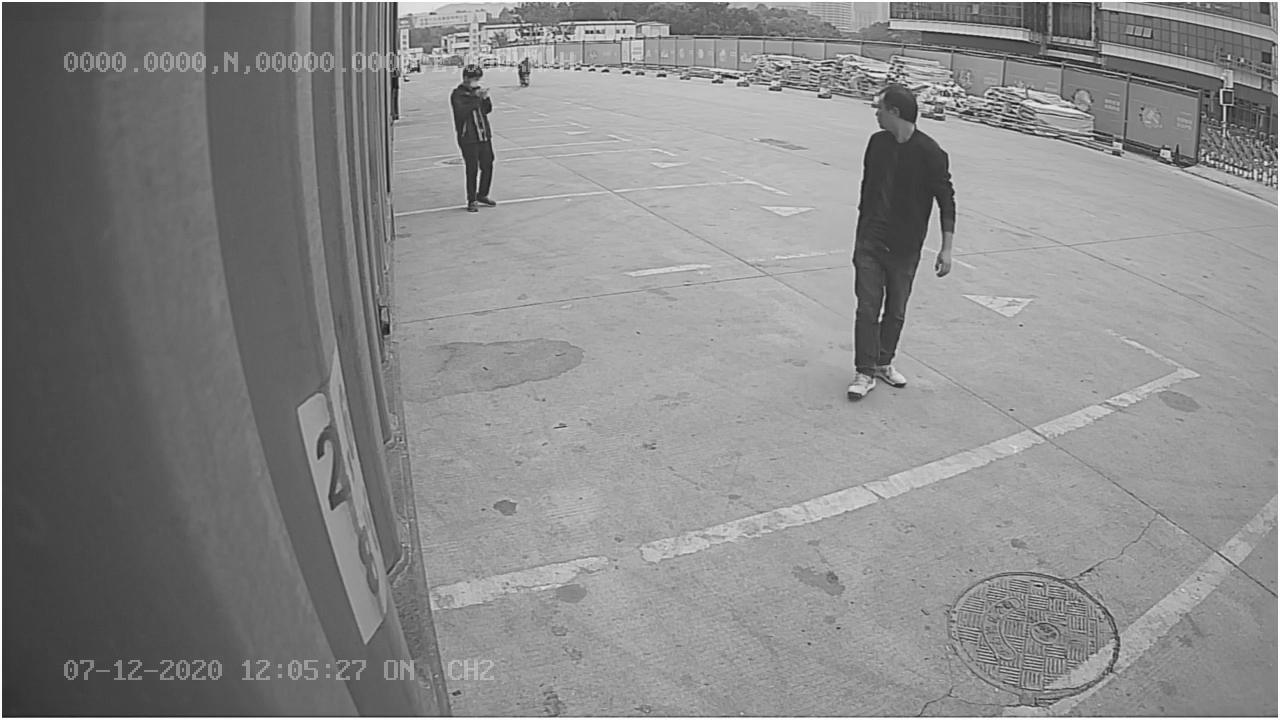person: (840, 82, 958, 402)
